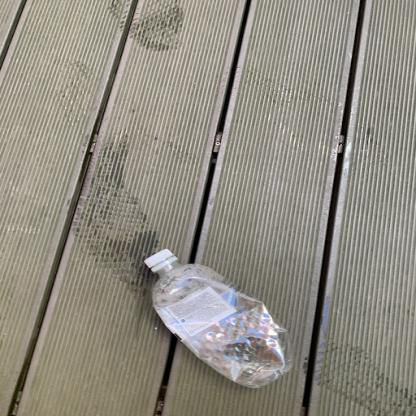plastic-bottles: (136, 244, 299, 390)
